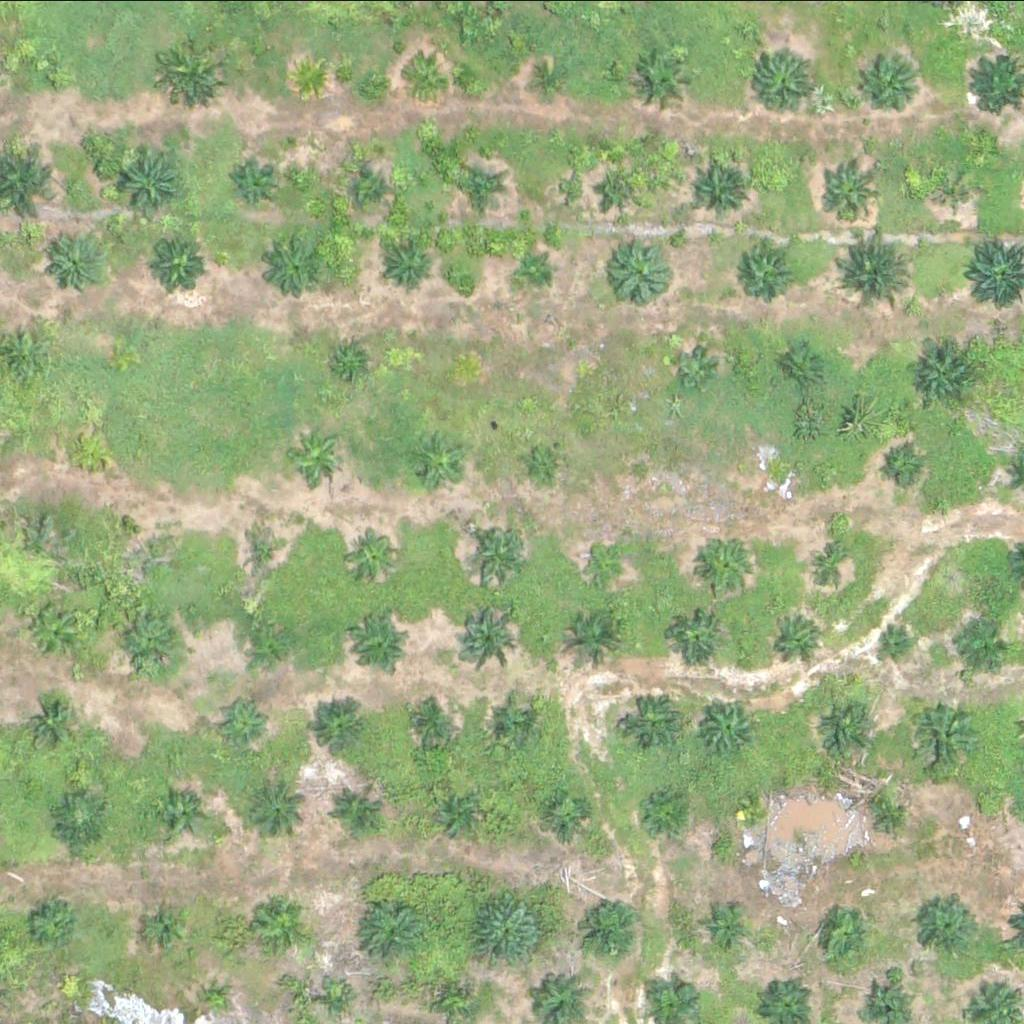Kelapa_Sawit: (354, 895, 430, 970), (572, 891, 648, 966), (898, 696, 974, 771), (468, 891, 544, 966), (841, 237, 916, 312), (109, 145, 184, 220), (605, 243, 668, 306), (409, 432, 472, 495), (623, 689, 686, 752), (44, 231, 107, 294), (161, 40, 224, 103), (247, 773, 310, 836), (118, 615, 181, 678), (286, 425, 349, 488), (316, 694, 379, 757), (354, 611, 417, 673), (915, 345, 978, 407), (732, 243, 795, 305), (815, 698, 878, 760), (567, 610, 630, 672), (468, 523, 531, 585), (451, 607, 514, 669), (917, 899, 980, 961), (264, 238, 327, 300), (147, 234, 210, 296), (689, 160, 752, 222), (633, 50, 696, 112), (753, 52, 816, 114), (864, 48, 927, 110), (818, 158, 881, 220), (21, 598, 84, 660), (702, 693, 764, 755), (347, 529, 398, 579), (385, 244, 436, 294), (455, 167, 506, 217), (55, 792, 106, 842), (26, 897, 77, 947), (26, 699, 77, 749), (241, 525, 292, 575), (239, 613, 290, 663), (216, 695, 267, 745), (158, 787, 209, 837), (635, 790, 685, 840), (539, 791, 589, 841), (670, 609, 720, 659), (702, 539, 752, 589), (965, 626, 1015, 676), (818, 913, 868, 963), (235, 163, 285, 213), (260, 898, 310, 948), (861, 786, 911, 836), (598, 166, 648, 216), (349, 162, 399, 212), (405, 697, 455, 747), (489, 695, 539, 745), (425, 789, 475, 839), (330, 784, 380, 834), (143, 902, 193, 952), (774, 614, 824, 664), (708, 910, 746, 948), (876, 623, 914, 661), (292, 59, 330, 97), (414, 57, 452, 95), (534, 58, 572, 96), (64, 433, 102, 471), (335, 342, 373, 380), (587, 546, 625, 584), (770, 448, 808, 486), (812, 542, 850, 580), (786, 344, 824, 381), (935, 169, 973, 206), (884, 443, 921, 481), (518, 252, 556, 289), (116, 527, 154, 564), (524, 444, 561, 481), (674, 349, 711, 386), (445, 983, 471, 1008), (44, 62, 69, 87), (200, 990, 225, 1015), (328, 985, 353, 1010), (736, 802, 761, 827), (971, 795, 996, 820)
